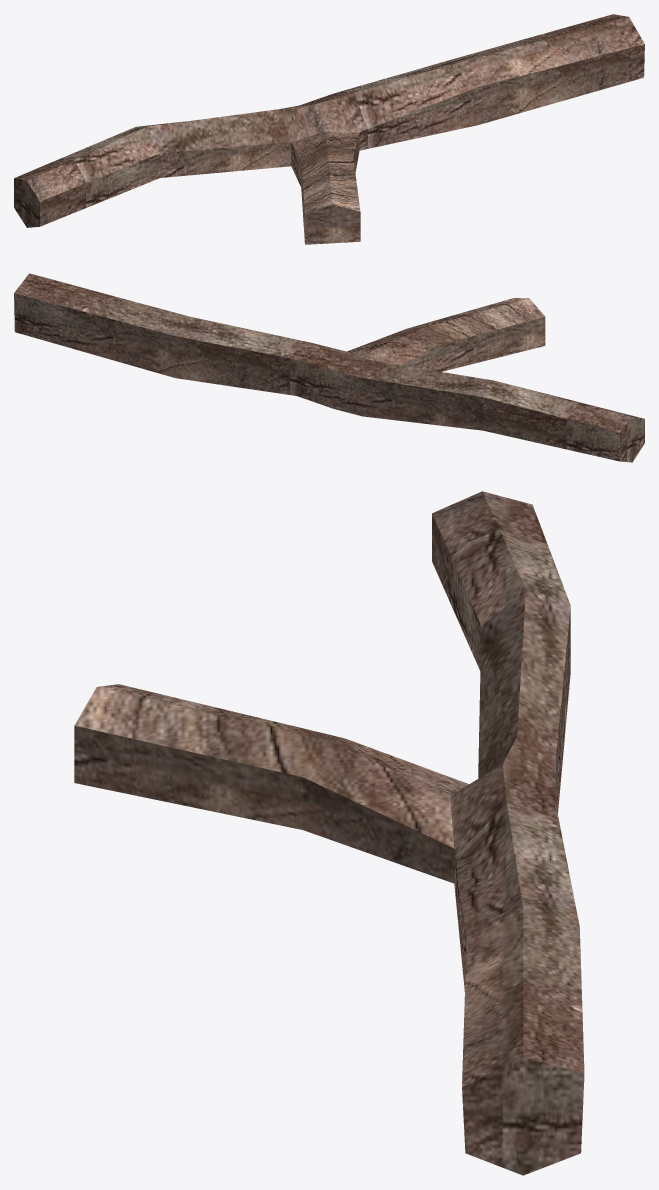
File: mutuk.fbx
3 views of the same model, one above another, from view 1: azimuth 30°, elevation 25°; view 2: azimuth 150°, elevation 25°; view 3: azimuth 270°, elevation 25° (orthographic). The views are drawn at different scales.
Parts seen in each view (by area): view 1: Cube; view 2: Cube; view 3: Cube.
Boxes of the visible parts, box(x1,y1,x2,y2) form: Cube: box(14, 14, 644, 244); Cube: box(14, 273, 644, 462); Cube: box(74, 491, 584, 1175).
Size of the model in its own units: 308 by 32.85 by 115.
